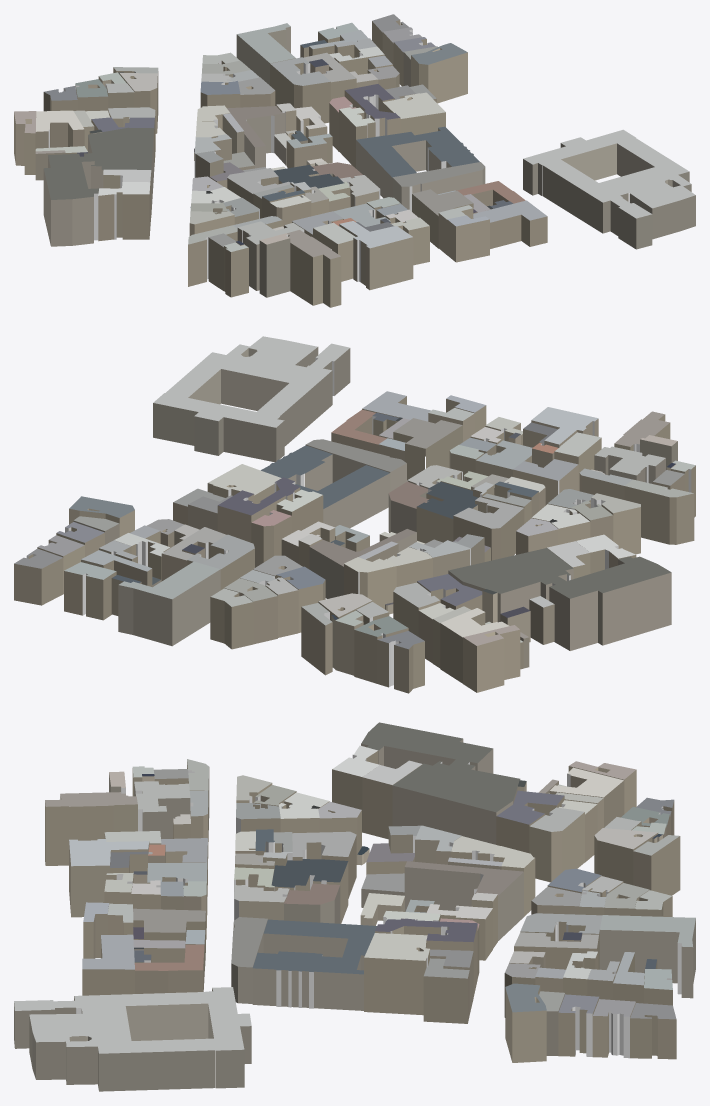
3 renders of one model, top to bottom at view 1: azimuth 30°, elevation 25°; view 2: azimuth 150°, elevation 25°; view 3: azimuth 270°, elevation 25°, orthographic. The views are drawn at different scales.
Parts seen in each view (by area): view 1: tuile; view 2: tuile; view 3: tuile.
Part boxes in pixels (bbox=[...]): tuile: bbox=[14, 14, 695, 307]; tuile: bbox=[14, 336, 695, 693]; tuile: bbox=[14, 722, 695, 1091].
Size of the model in its own units: 318 by 34.88 by 293.
